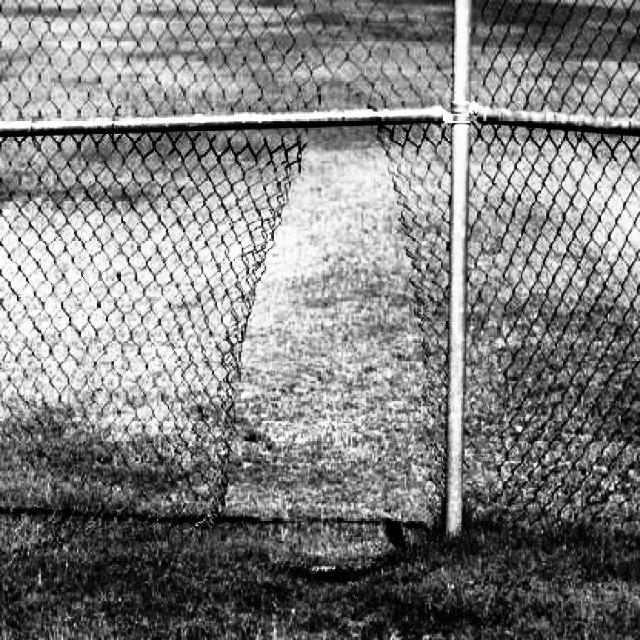anomaly-fence: (196, 43, 442, 545)
